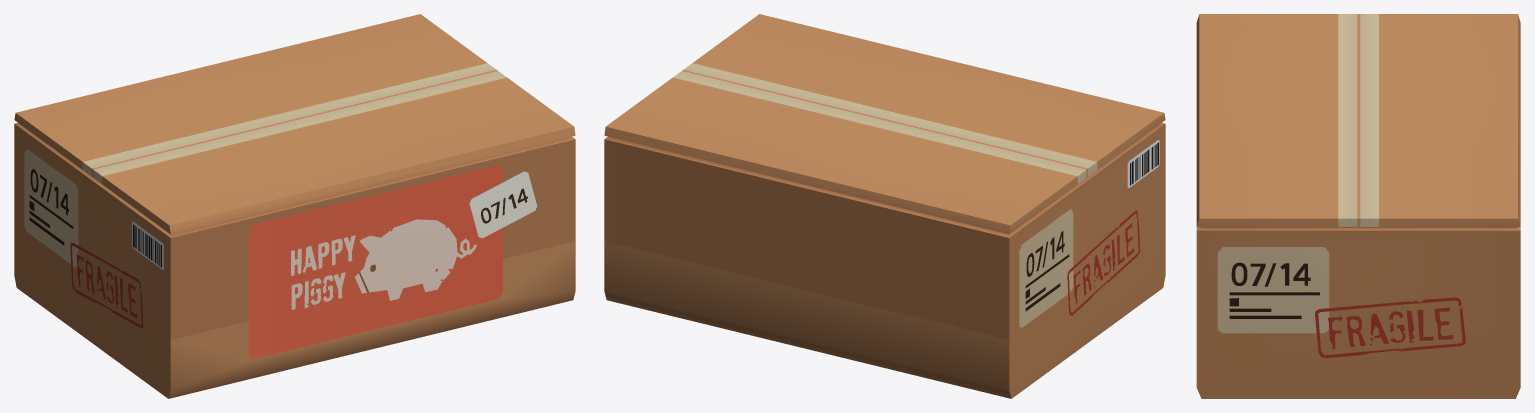
3 renders of one model, left to right at view 1: azimuth 30°, elevation 25°; view 2: azimuth 150°, elevation 25°; view 3: azimuth 270°, elevation 25°, orthographic. The views are drawn at different scales.
Visible parts, largest first — view 1: CR_Box_002; view 2: CR_Box_002; view 3: CR_Box_002.
Boxes of the visible parts, x1,y1,x2,y2 form: CR_Box_002: [14, 14, 575, 398]; CR_Box_002: [604, 14, 1165, 398]; CR_Box_002: [1196, 14, 1520, 398].
Size of the model in its own units: 58.22 by 39.03 by 23.83.
